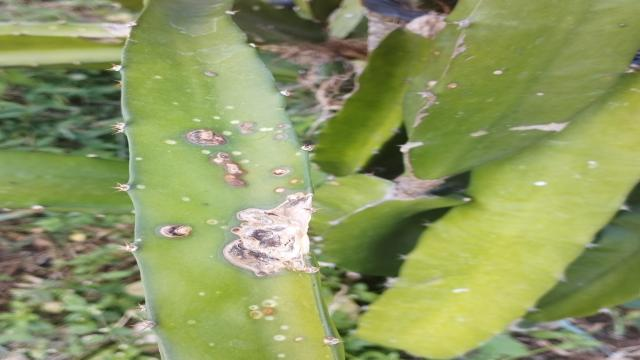stemcanker: (171, 284, 226, 358), (269, 322, 308, 360), (132, 148, 150, 195), (202, 214, 224, 232), (268, 162, 290, 179), (488, 65, 510, 81), (176, 192, 196, 209), (160, 134, 179, 150), (530, 88, 552, 101), (257, 297, 282, 308), (270, 184, 288, 198), (286, 174, 304, 188), (208, 111, 224, 126), (223, 101, 240, 114), (442, 80, 462, 91), (226, 116, 242, 128), (219, 126, 232, 139), (238, 156, 252, 168), (230, 148, 246, 158), (189, 114, 205, 124)
